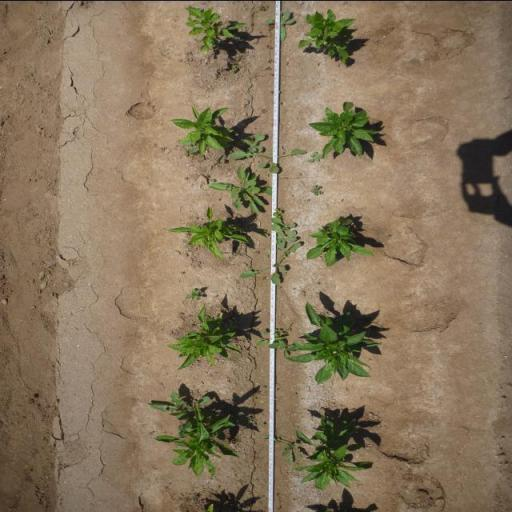plant: (286, 296, 389, 388), (291, 412, 375, 494), (152, 412, 242, 478), (164, 301, 245, 374), (306, 100, 382, 162), (167, 208, 250, 262), (304, 216, 377, 268), (170, 102, 235, 158), (296, 7, 358, 65), (182, 4, 250, 54)
weed: (147, 387, 217, 433), (208, 165, 273, 214), (239, 241, 304, 286), (228, 148, 309, 174), (261, 432, 305, 466), (265, 7, 297, 40), (270, 221, 303, 250), (236, 132, 268, 152), (255, 327, 288, 346), (268, 342, 295, 357), (271, 216, 298, 230), (183, 287, 205, 300), (308, 182, 324, 196), (307, 150, 323, 164), (184, 148, 198, 157), (272, 207, 284, 217), (242, 416, 252, 425), (260, 228, 269, 238), (264, 248, 271, 258), (258, 4, 268, 10), (267, 24, 276, 30), (231, 64, 237, 72), (266, 57, 274, 62), (265, 64, 271, 70), (210, 177, 216, 182), (218, 158, 225, 162), (254, 249, 259, 254)
